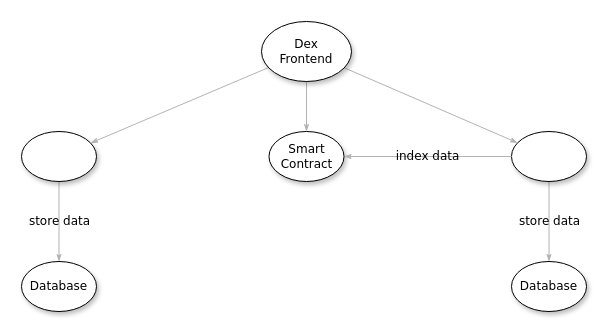
This 610x336 diagram has some shape labels left out. The centre of each missing label's shape, as x and y in pixels:
"Backend" goes at point (59, 157).
"Indexer" goes at point (549, 157).
